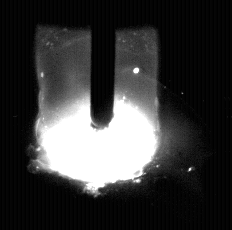arame: (91, 0, 115, 130)
poca: (39, 0, 159, 230)
